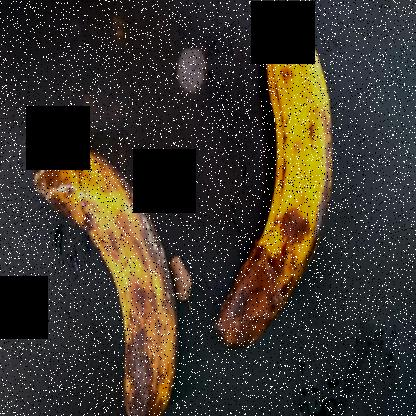rotten: (195, 0, 348, 372), (25, 131, 170, 415)
